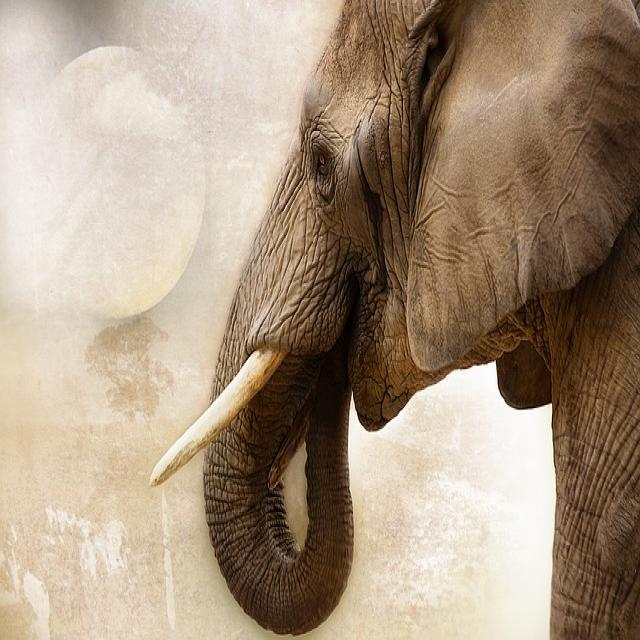elephant: (204, 2, 640, 637)
